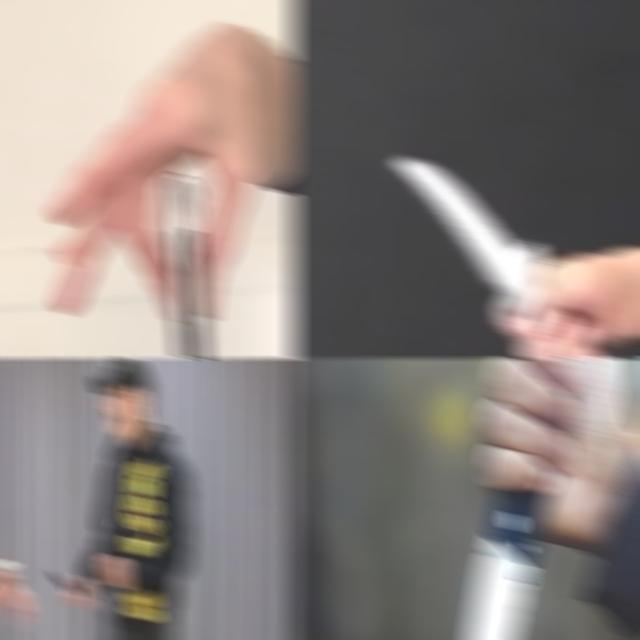Knife: (465, 492, 550, 640)
Knife_Handle: (49, 20, 260, 358), (444, 358, 638, 640), (393, 156, 618, 358), (51, 568, 93, 609), (0, 539, 18, 577)
